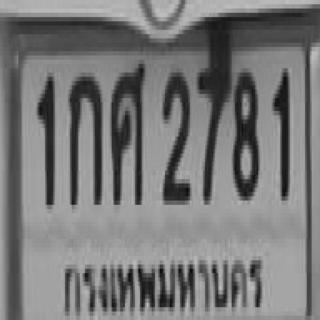A01: (68, 73, 100, 205)
A38: (110, 60, 143, 201)
N01: (272, 64, 288, 196), (37, 73, 53, 205)
N02: (162, 68, 188, 201)
N07: (196, 51, 229, 200)
N08: (232, 68, 257, 196)
P04: (58, 245, 267, 320)
